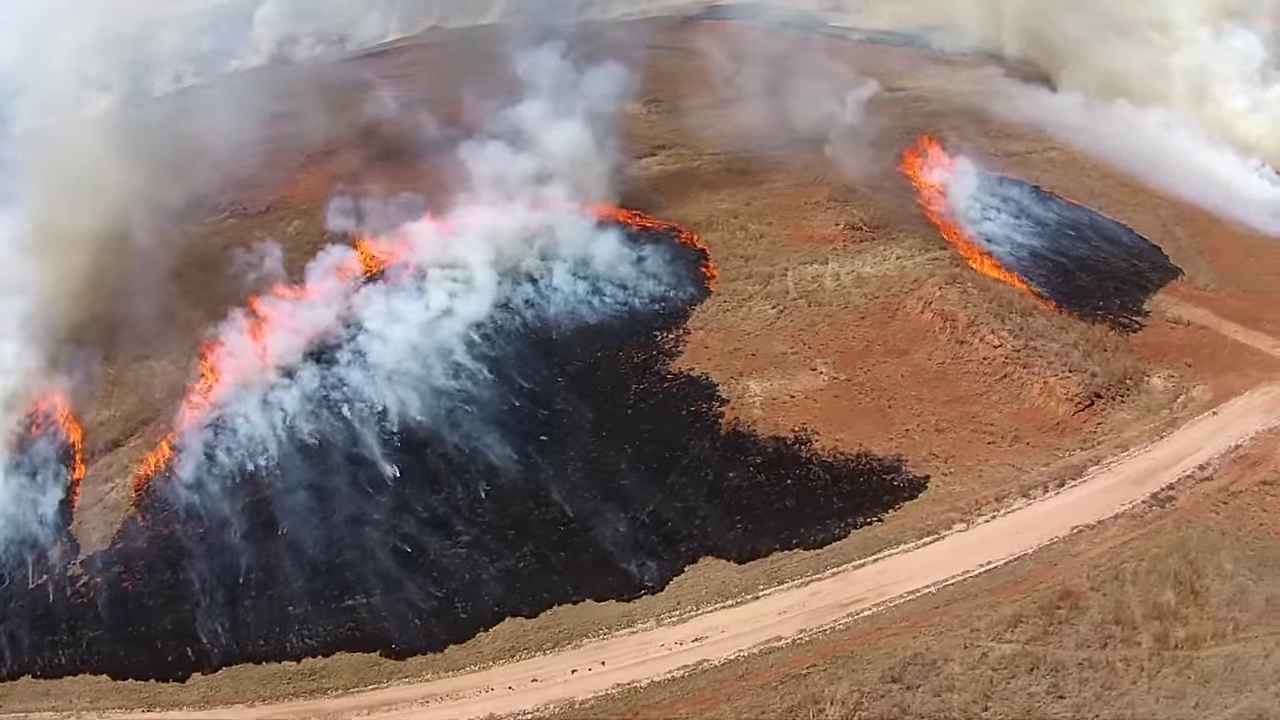forest_fire: (900, 135, 1056, 307), (130, 337, 247, 499), (590, 204, 718, 287), (233, 283, 319, 369), (31, 393, 85, 517), (322, 237, 408, 284)
